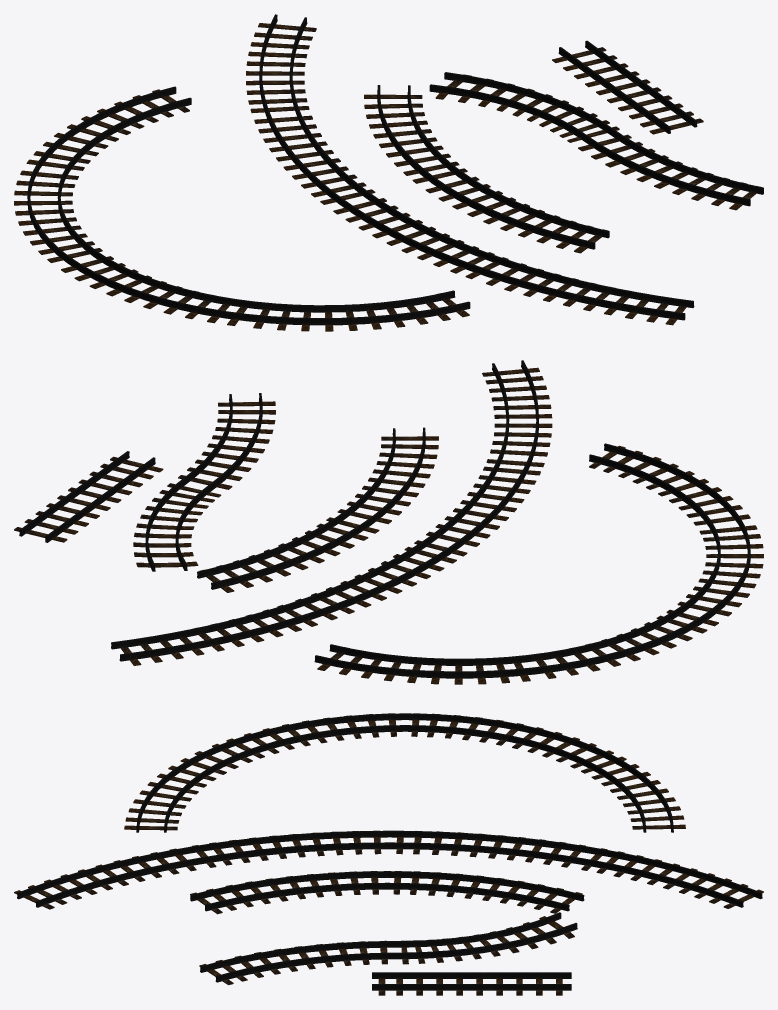
The model's file is train_track_-_modular_pack.glb.
The picture shows the model from 3 angles, top to bottom: view 1: azimuth 30°, elevation 25°; view 2: azimuth 150°, elevation 25°; view 3: azimuth 270°, elevation 25°; orthographic projection. The views are drawn at different scales.
Parts seen in each view (by area): view 1: Track_01polySurface161; view 2: Track_01polySurface161; view 3: Track_01polySurface161.
Part boxes in pixels (box(x1,y1,x2,y2)): Track_01polySurface161: box(14, 14, 763, 331); Track_01polySurface161: box(14, 360, 763, 684); Track_01polySurface161: box(14, 713, 763, 995).
Bounding box in the file's own units: 501 × 5.12 × 564.
Materials: 1 (1 with a texture image).
